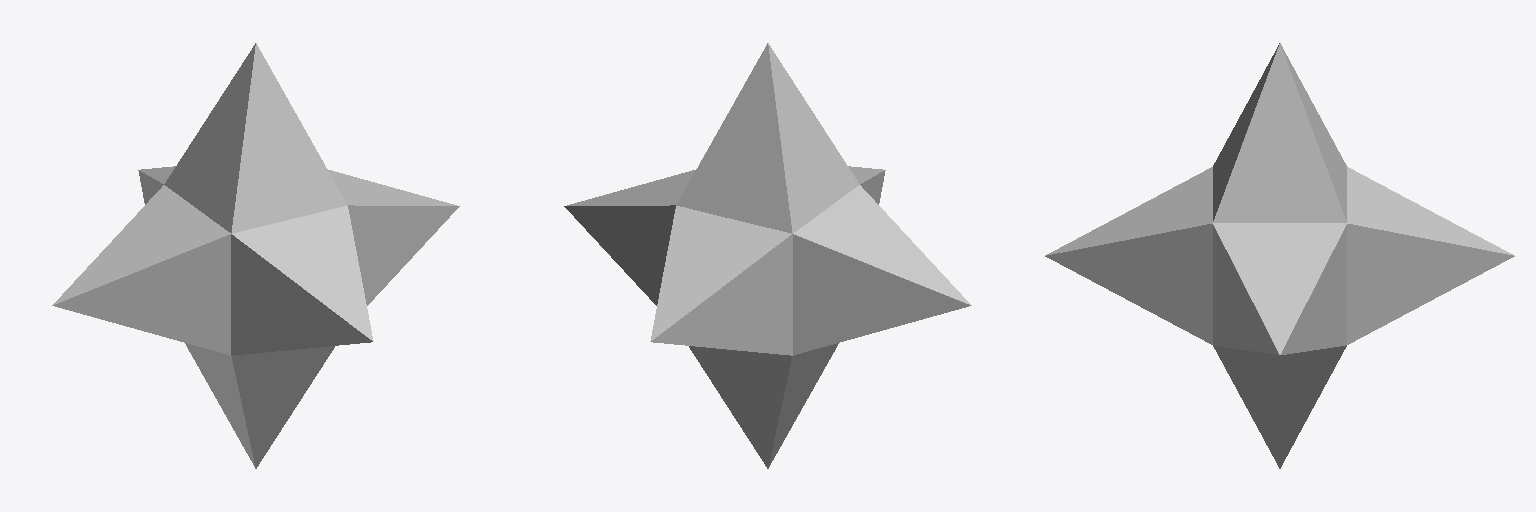
The model's file is obstacle.obj.
3 renders of one model, left to right at view 1: azimuth 30°, elevation 25°; view 2: azimuth 150°, elevation 25°; view 3: azimuth 270°, elevation 25°, orthographic.
Visible parts, largest first — view 1: pCube1; view 2: pCube1; view 3: pCube1.
Part boxes in pixels (left/top/right/bottom): pCube1: left=52, top=43, right=459, bottom=468; pCube1: left=564, top=43, right=971, bottom=468; pCube1: left=1045, top=43, right=1514, bottom=468.
Size of the model in its own units: 2.06 by 2.06 by 2.06.